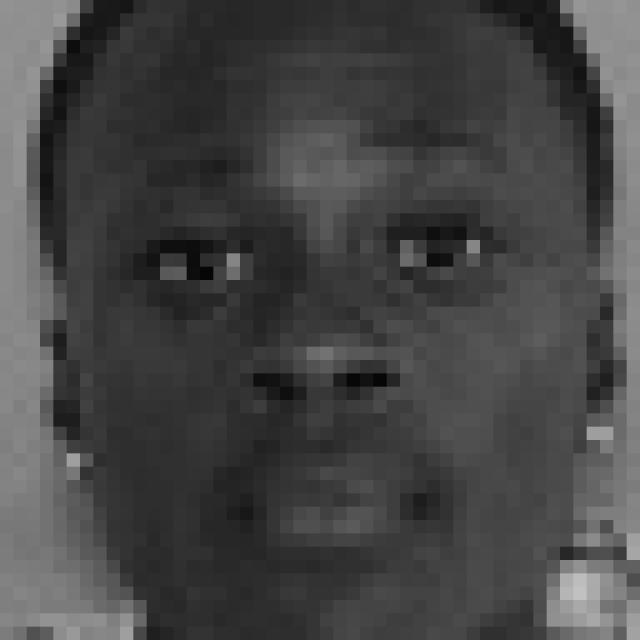neutral: (118, 111, 536, 578)
